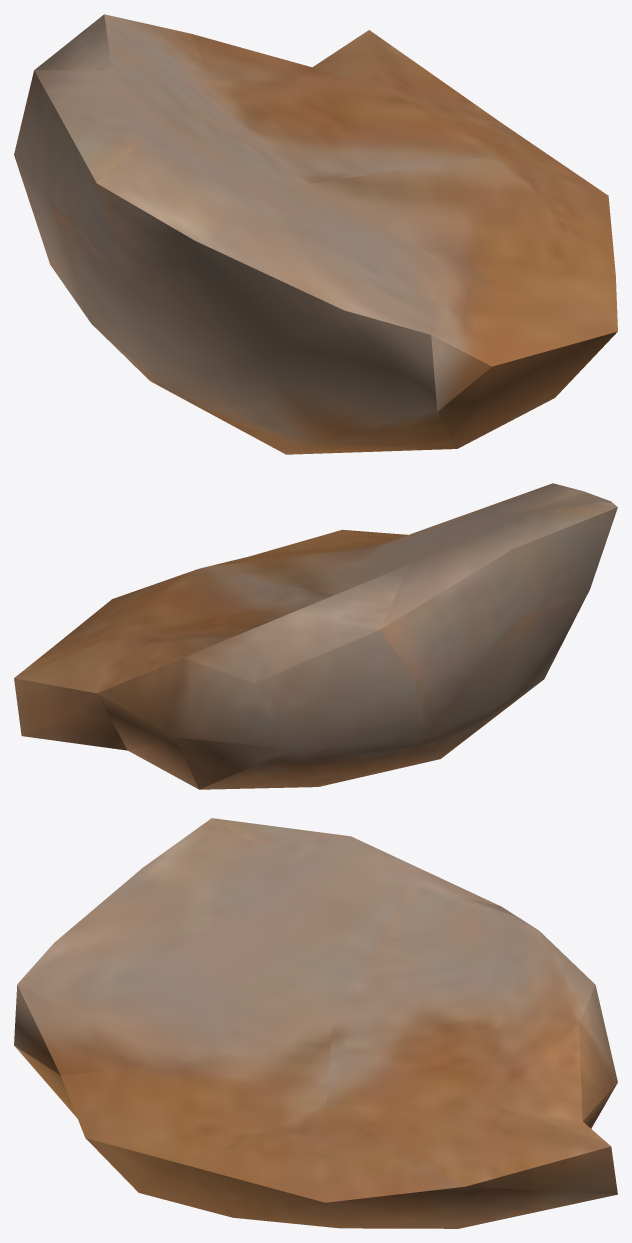
Rendered from cascote_3.glb.
3 views of the same model, one above another, from view 1: azimuth 30°, elevation 25°; view 2: azimuth 150°, elevation 25°; view 3: azimuth 270°, elevation 25° (orthographic). The views are drawn at different scales.
Visible parts, largest first — view 1: cascote_3_malla; view 2: cascote_3_malla; view 3: cascote_3_malla.
Boxes of the visible parts, bbox=[...] form: cascote_3_malla: bbox=[14, 14, 617, 454]; cascote_3_malla: bbox=[14, 483, 617, 789]; cascote_3_malla: bbox=[14, 818, 617, 1228].
Bounding box in the file's own units: 0.1263 × 0.0721 × 0.1451.
Materials: 1 (1 with a texture image).
